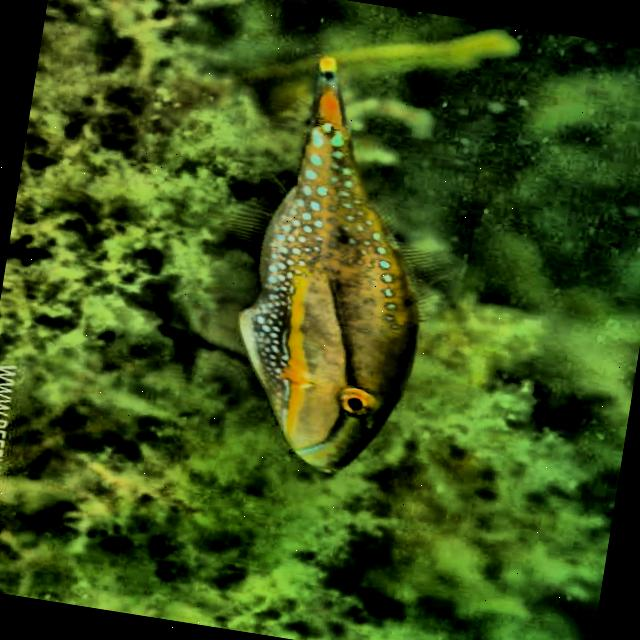fish: (187, 44, 485, 488)
